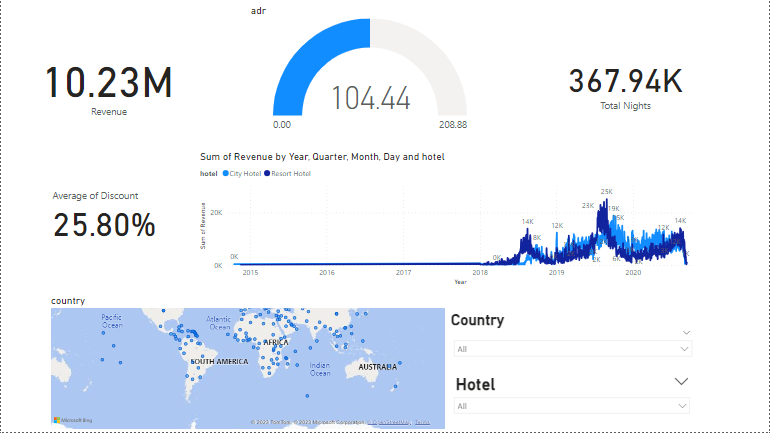

What the dashboard file says about the page in this screenshot:
{"tool":"powerbi","page":{"name":"Page 1","canvas":[1280,720],"ordinal":0},"visuals":[{"type":"card","fields":{"Values":["Sum(Query1.Revenue)"]},"box":[35,6.7,355,221.7],"z":0},{"type":"gauge","fields":{"Y":["Avg(Query1.adr)"]},"box":[411.7,6.7,406.7,221.7],"z":1000},{"type":"card","fields":{"Values":["Sum(Query1.Revenue)"]},"box":[45,16.7,355,221.7],"z":2000},{"type":"card","fields":{"Values":["Sum(Query1.Revenue)"]},"box":[0,26.7,355,221.7],"z":3000},{"type":"card","fields":{"Values":["Query1.Total Nights"]},"box":[863.3,26.7,355,221.7],"z":4000},{"type":"cardVisual","fields":{"Data":["Avg(Query1.Discount)"]},"box":[68.3,233.3,220,251.7],"z":5000},{"type":"lineChart","fields":{"Category":["Query1.reservation_status_date.Variation.Date Hierarchy.Year","Query1.reservation_status_date.Variation.Date Hierarchy.Quarter","Query1.reservation_status_date.Variation.Date Hierarchy.Month","Query1.reservation_status_date.Variation.Date Hierarchy.Day"],"Y":["Sum(Query1.Revenue)"],"Series":["Query1.hotel"]},"box":[326.9,249.5,834.4,230.5],"z":6000},{"type":"map","fields":{"Category":["Query1.country"]},"box":[78.3,490,666.7,230],"z":7000},{"type":"slicer","title":"Country","fields":{"Values":["Query1.country"]},"box":[745,518.3,416.7,86.7],"z":8000},{"type":"slicer","fields":{"Values":["Query1.hotel"]},"box":[745,618.3,413.3,86.7],"z":9000}]}

Visuals, with their boxes in screenshot pixels (x1, y1, x2, y2), scaled from the page's 1280x720 canvas onto the 770x433 screenshot:
card - Sum(Query1.Revenue): x1=21, y1=4, x2=235, y2=137
gauge - Avg(Query1.adr): x1=248, y1=4, x2=492, y2=137
card - Sum(Query1.Revenue): x1=27, y1=10, x2=241, y2=143
card - Sum(Query1.Revenue): x1=0, y1=16, x2=214, y2=149
card - Query1.Total Nights: x1=519, y1=16, x2=733, y2=149
cardVisual - Avg(Query1.Discount): x1=41, y1=140, x2=173, y2=292
lineChart - Query1.reservation_status_date.Variation.Date Hierarchy.Year x Query1.reservation_status_date.Variation.Date Hierarchy.Quarter: x1=197, y1=150, x2=699, y2=289
map - Query1.country: x1=47, y1=295, x2=448, y2=432
"Country" slicer: x1=448, y1=312, x2=699, y2=364
slicer - Query1.hotel: x1=448, y1=372, x2=697, y2=424
